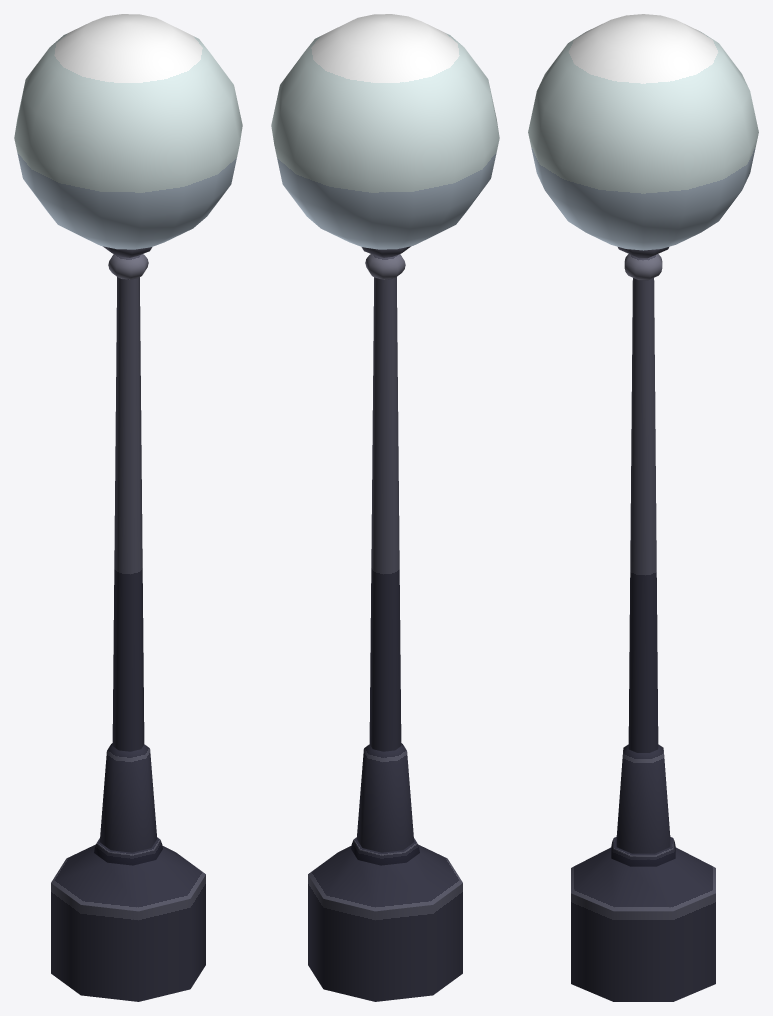
File: farol_01.fbx
3 views of the same model, side by side, from view 1: azimuth 30°, elevation 25°; view 2: azimuth 150°, elevation 25°; view 3: azimuth 270°, elevation 25° (orthographic).
Parts seen in each view (by area): view 1: farol_01; view 2: farol_01; view 3: farol_01.
Boxes of the visible parts, box(x1,y1,x2,y2) form: farol_01: box(14, 14, 242, 1001); farol_01: box(271, 14, 499, 1001); farol_01: box(528, 14, 758, 1001).
Size of the model in its own units: 192 by 869 by 192.
